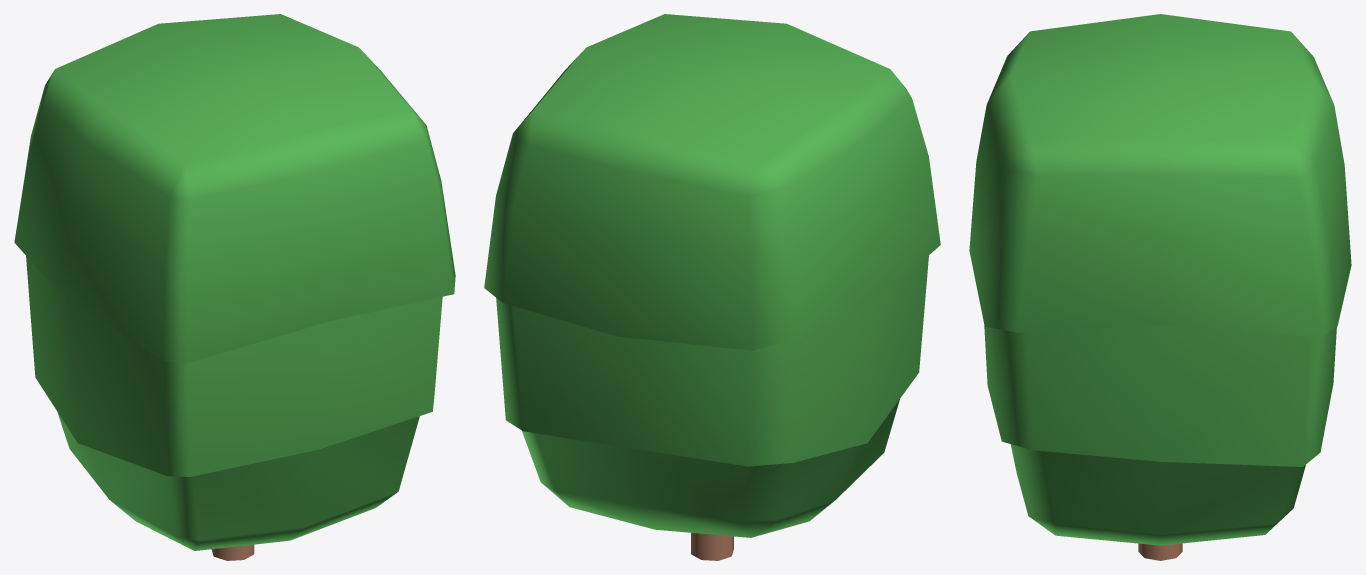
Rendered from BushB1.fbx.
3 renders of one model, left to right at view 1: azimuth 30°, elevation 25°; view 2: azimuth 150°, elevation 25°; view 3: azimuth 270°, elevation 25°, orthographic.
Visible parts, largest first — view 1: Bush_B1; view 2: Bush_B1; view 3: Bush_B1.
Boxes of the visible parts, <box> form: Bush_B1: <box>14,14,455,560</box>; Bush_B1: <box>484,14,940,560</box>; Bush_B1: <box>969,14,1351,560</box>.
Bounding box in the file's own units: 55.47 × 73.65 × 52.82.
